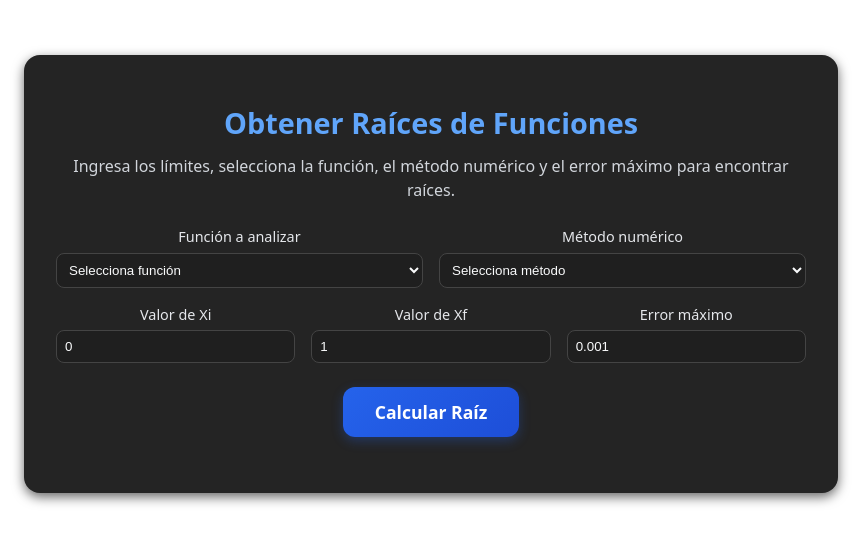
it: RaicesFunciones.vue › muestra un mensaje de alerta si no se llenan los campos
Click the button "Calcular Raíz". click: {"x": 431, "y": 412}
box: 343,387 -> 519,437
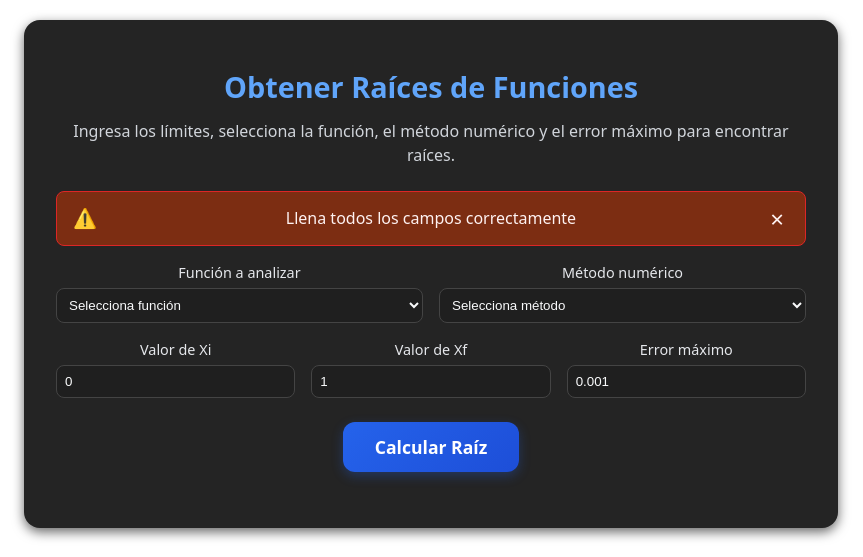
Result: the text "Llena todos los campos correctamente" is shown at 286,207 -> 576,229
